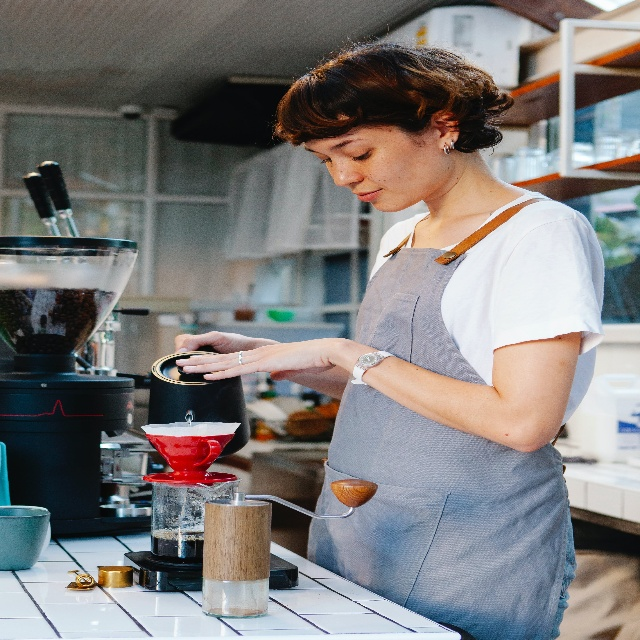Sin_guantes: (175, 336, 337, 381), (174, 329, 251, 353)
